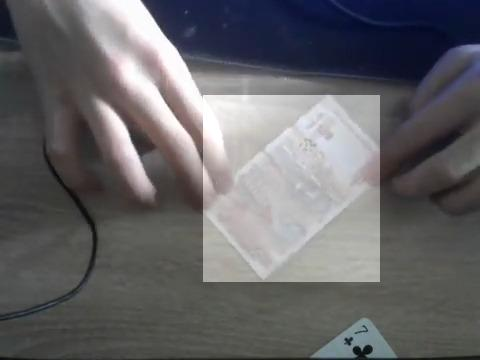5leva: (203, 95, 380, 282)
